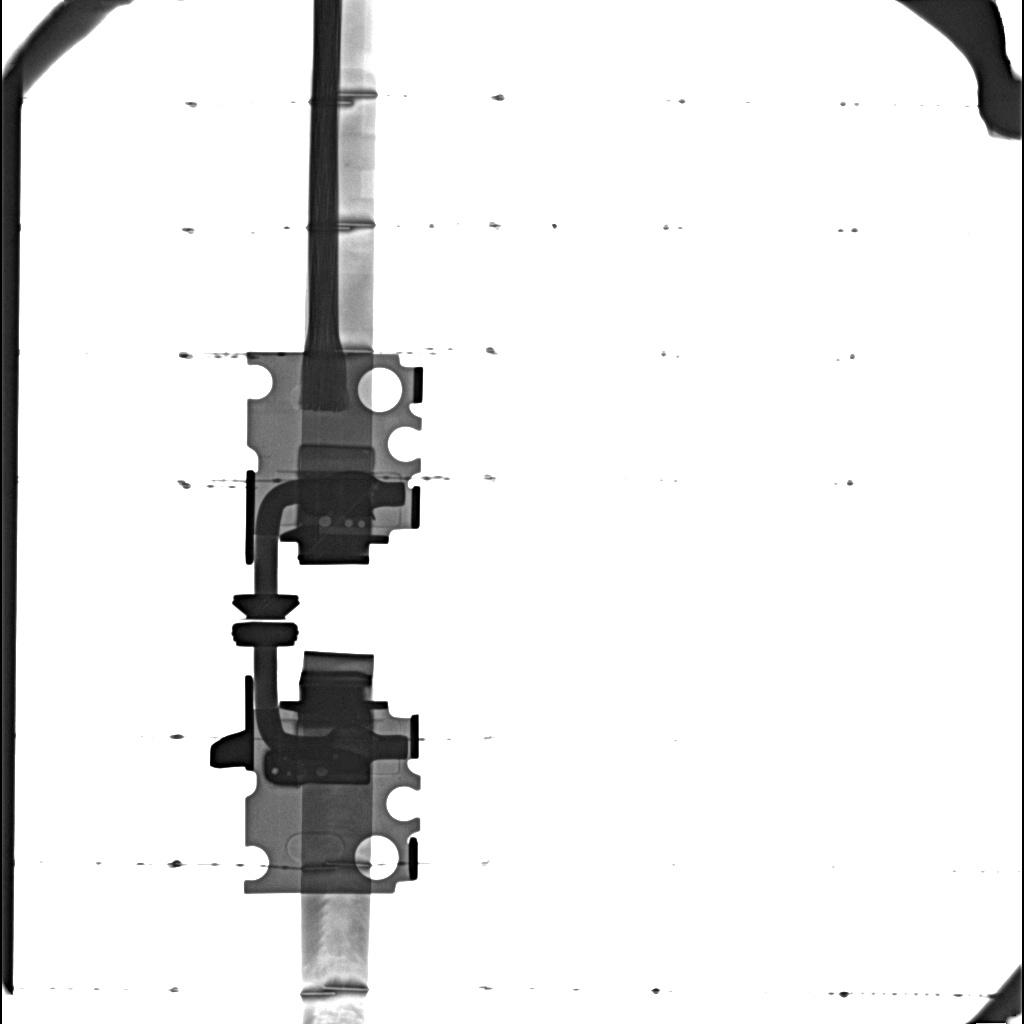defect: (265, 742, 371, 784), (300, 472, 373, 516), (297, 443, 374, 476), (319, 516, 331, 527), (345, 518, 354, 528), (358, 521, 365, 528)
